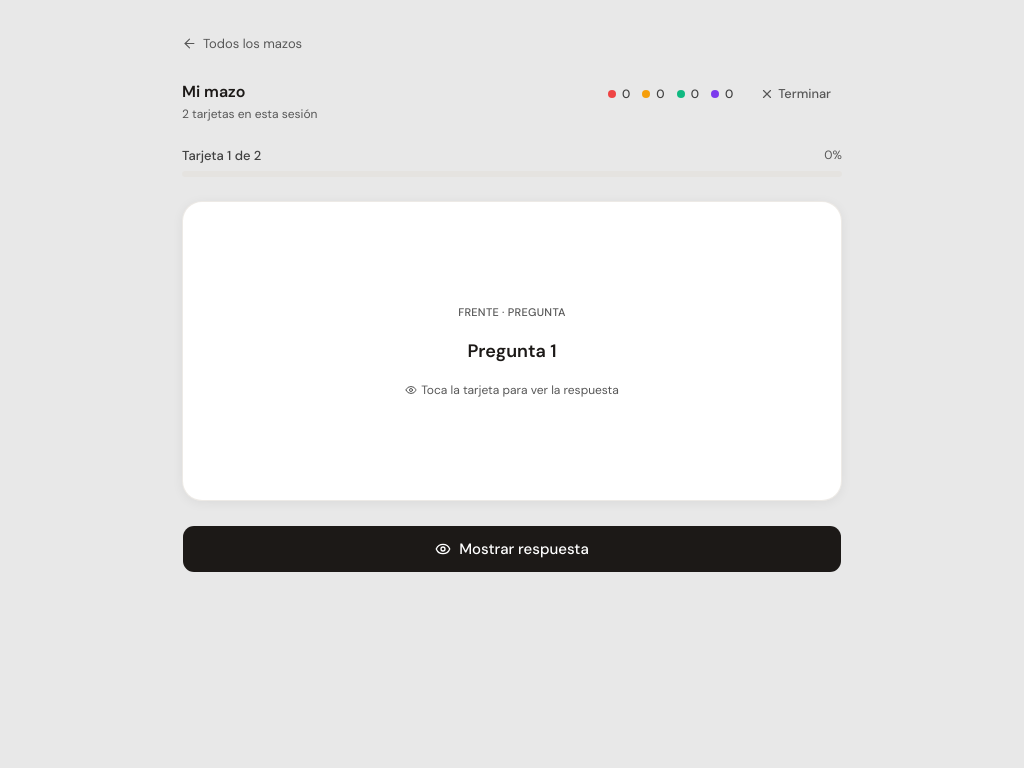
Test: FlashcardPlayer › graded session (onRate/onFinish/onExit) › finishes early from 'Terminar'
The image size is (1024, 768).
Click the button "Terminar" at (796, 94), box 749,80 -> 842,108
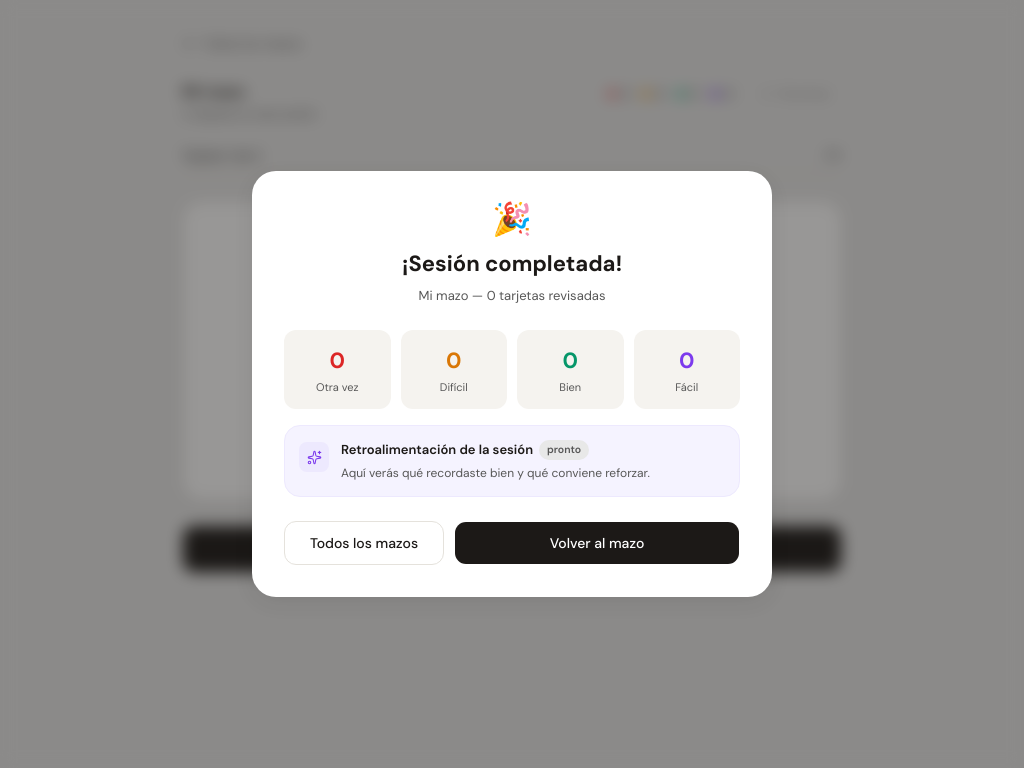
Expected: the dialog "Sesión completada" shows "Mi mazo — 0 tarjetas revisadas", 418,287 -> 605,304
